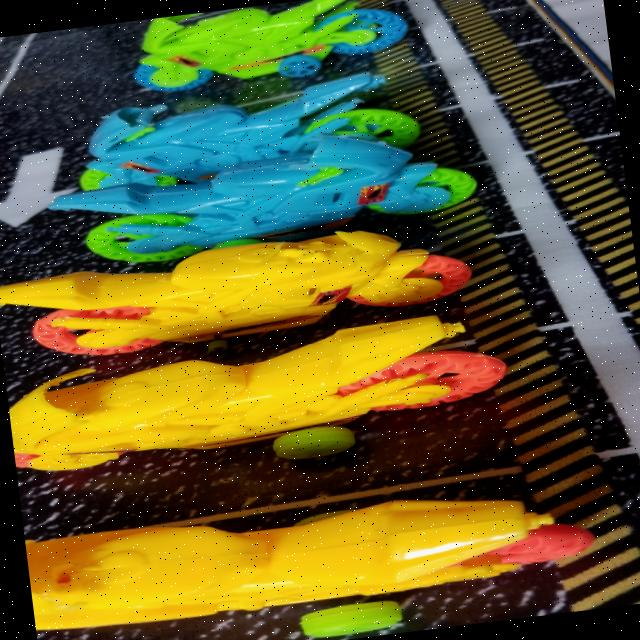occupied: (9, 316, 505, 540), (27, 466, 640, 640), (0, 231, 475, 379), (50, 133, 476, 263), (80, 72, 476, 190), (134, 0, 407, 114)
